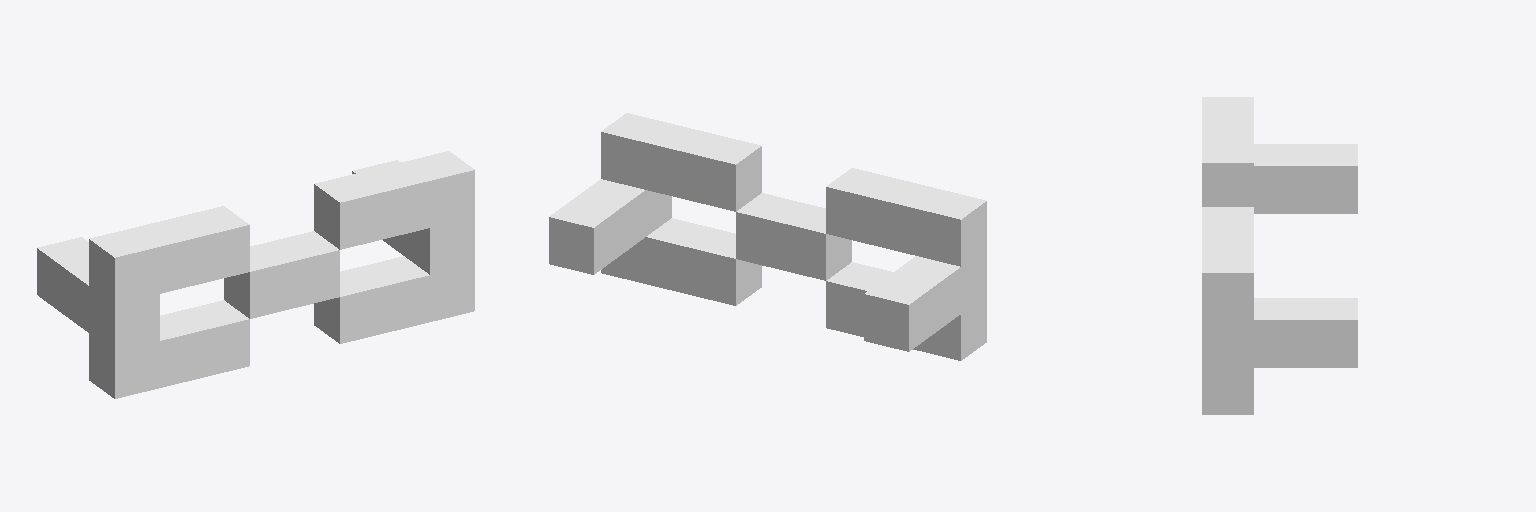
The model's file is grandma01-11.obj.
The picture shows the model from 3 angles: view 1: azimuth 30°, elevation 25°; view 2: azimuth 150°, elevation 25°; view 3: azimuth 270°, elevation 25°; orthographic projection.
Visible parts, largest first — view 1: grandma01-11; view 2: grandma01-11; view 3: grandma01-11.
Boxes of the visible parts, <box> form: grandma01-11: <box>37,151,474,398</box>; grandma01-11: <box>549,113,986,360</box>; grandma01-11: <box>1202,97,1357,414</box>.
Bounding box in the file's own units: 8 × 3 × 3.